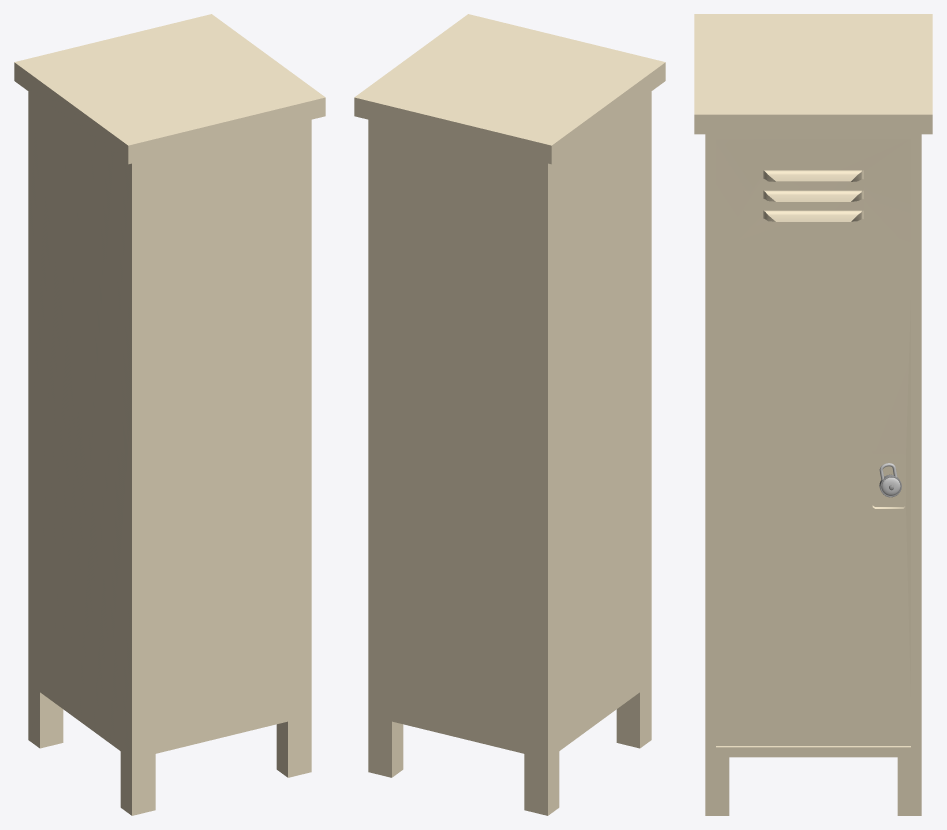
Rendered from Locker_Single.fbx.
The picture shows the model from 3 angles, left to right: view 1: azimuth 30°, elevation 25°; view 2: azimuth 150°, elevation 25°; view 3: azimuth 270°, elevation 25°; orthographic projection. The views are drawn at different scales.
Parts seen in each view (by area): view 1: Locker; view 2: Locker; view 3: Door, Locker, Lock.001.
Part boxes in pixels (box(x1,y1,x2,y2)): Locker: box(14, 14, 325, 815); Locker: box(354, 14, 665, 815); Door: box(716, 139, 910, 745); Locker: box(694, 14, 932, 815); Lock.001: box(879, 463, 901, 497).
Size of the model in its own units: 220 by 720 by 220.
